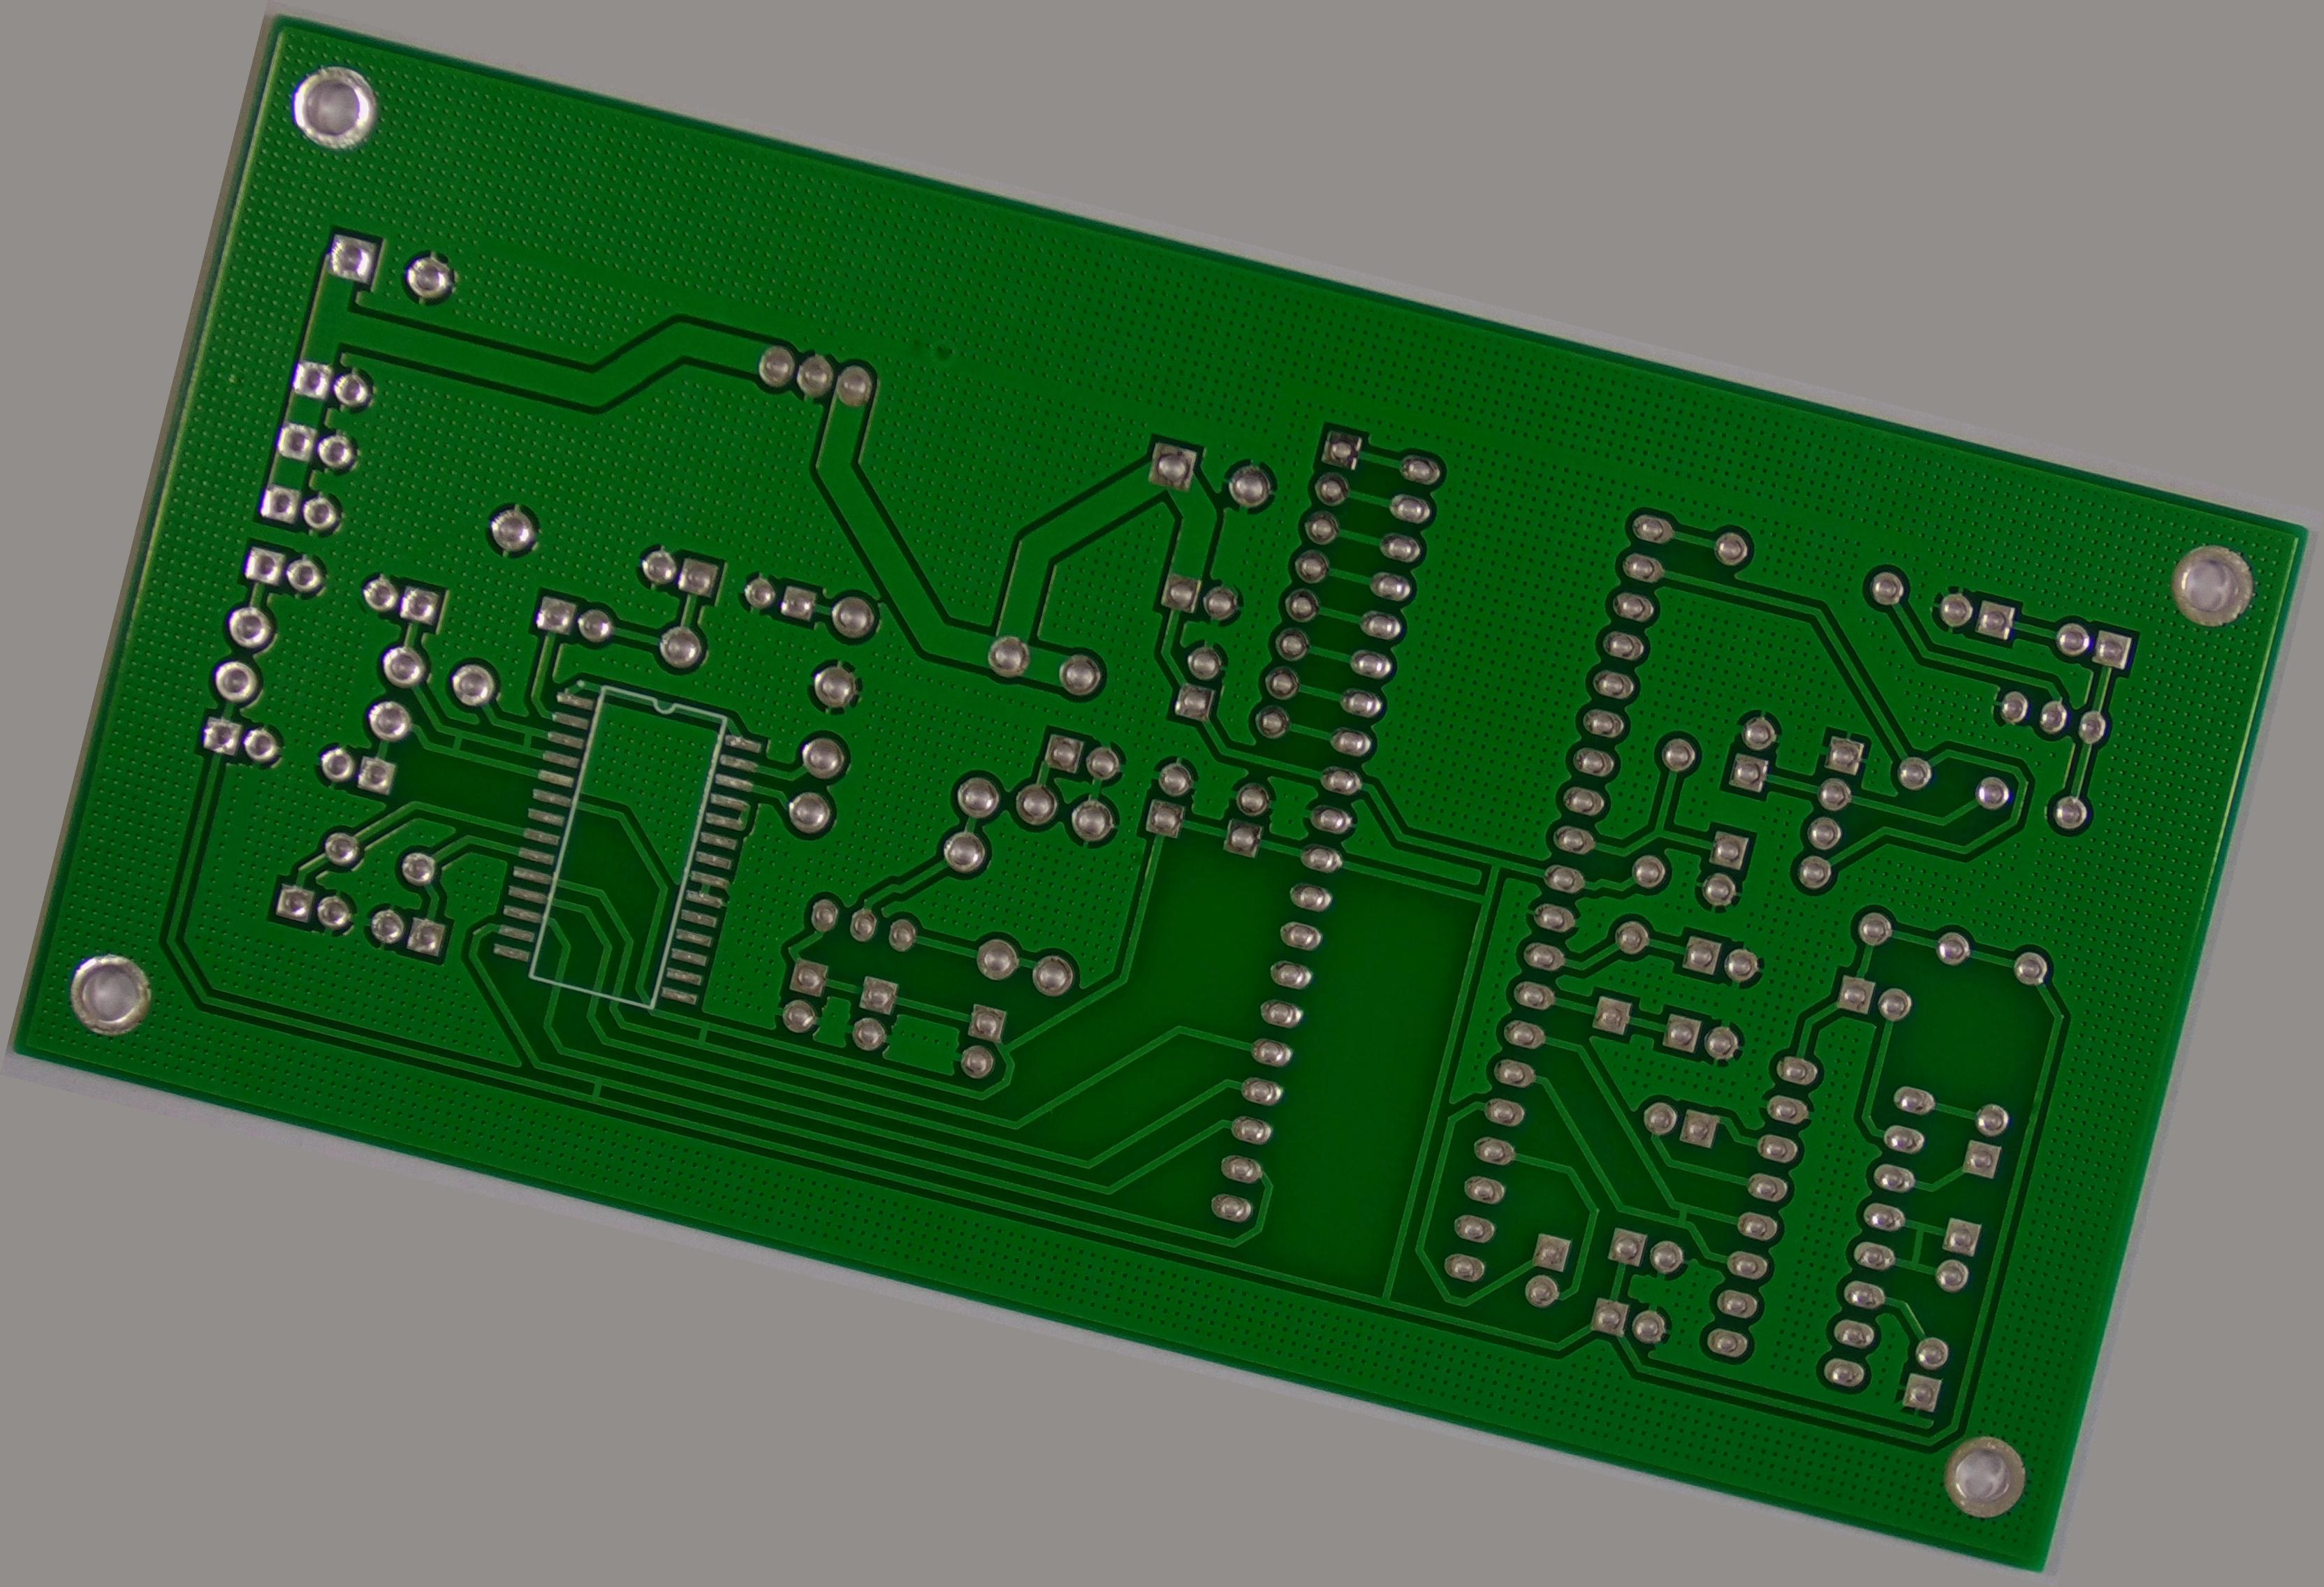short: (1875, 1202, 1953, 1285), (669, 1004, 731, 1061), (1651, 1181, 1708, 1239), (427, 722, 482, 773), (569, 1064, 622, 1116), (507, 717, 549, 761)
